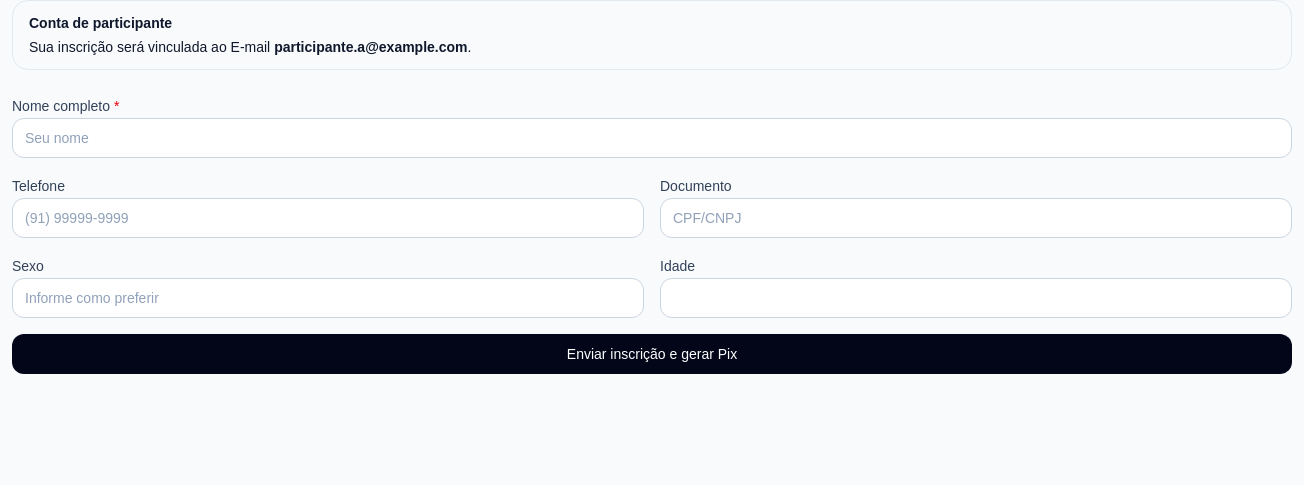
Scenario: RegistrationForm › mantém os dados e desabilita a inscrição durante o Retry-After
Expected: the text "Conta de participante" is shown, [29,15,172,31]
Type "Participante preservado" into the field labelled "Nome completo *".
click(652, 138); type("Participante preservado")  # box [12,118,1292,158]
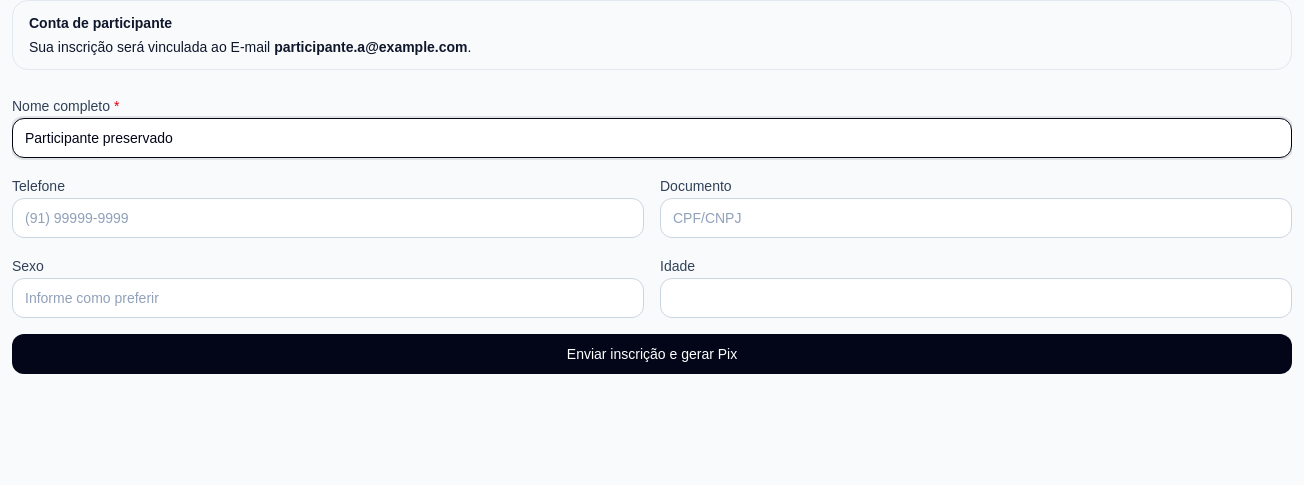
Click the button "Enviar inscrição e gerar Pix".
click(652, 354)  # box [12,334,1292,374]
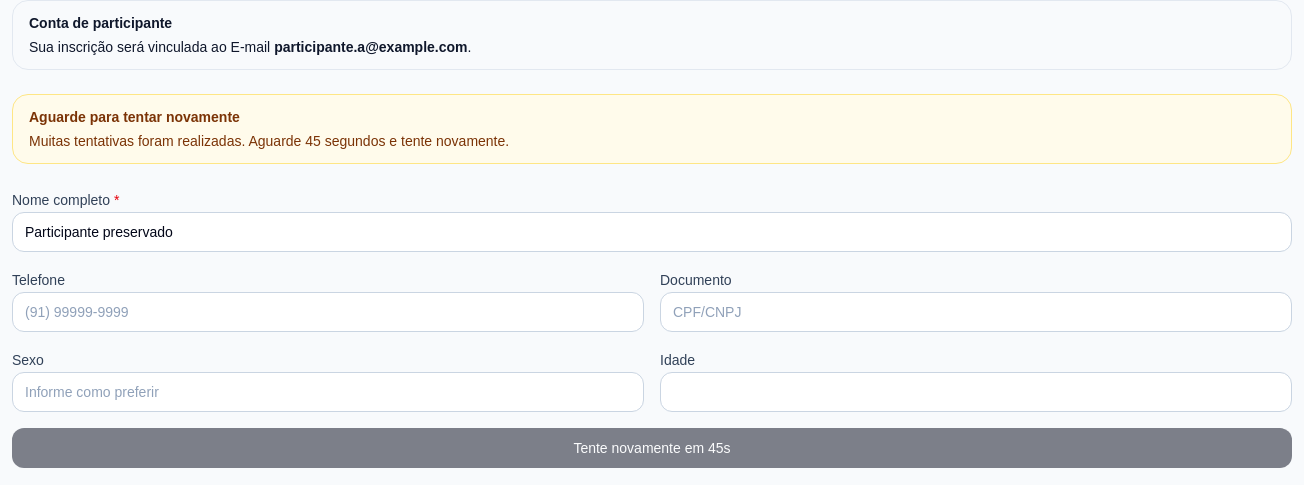
Expected: the text "Muitas tentativas foram realizadas. Aguarde 45 segundos e tente novamente." is shown, [29,133,509,149]
Expected: the button "Tente novamente em 45s" is disabled, [12,428,1292,468]
